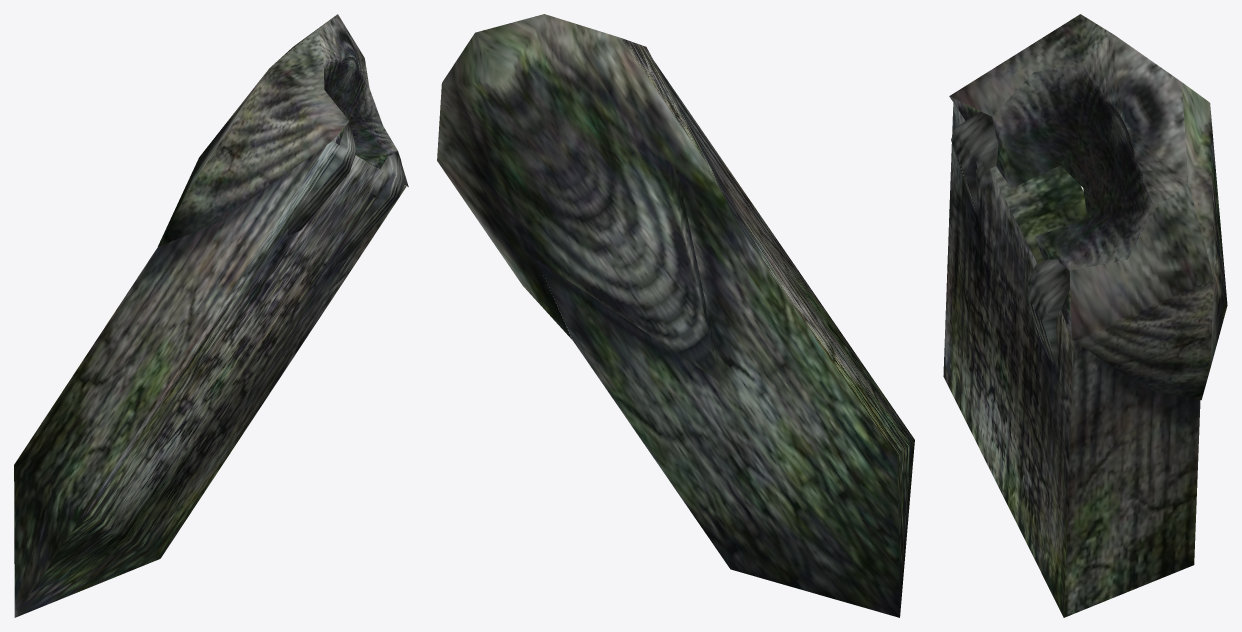
File: cj_field_tomb3.glb
3 renders of one model, left to right at view 1: azimuth 30°, elevation 25°; view 2: azimuth 150°, elevation 25°; view 3: azimuth 270°, elevation 25°, orthographic. The views are drawn at different scales.
Visible parts, largest first — view 1: CJ_field_tomb_3; view 2: CJ_field_tomb_3; view 3: CJ_field_tomb_3.
Part boxes in pixels (box(x1,y1,x2,y2)): CJ_field_tomb_3: box(14, 14, 408, 617); CJ_field_tomb_3: box(437, 14, 914, 617); CJ_field_tomb_3: box(943, 14, 1227, 617).
Size of the model in its own units: 3.03 by 3.66 by 1.26.
1 material, 1 textured.
